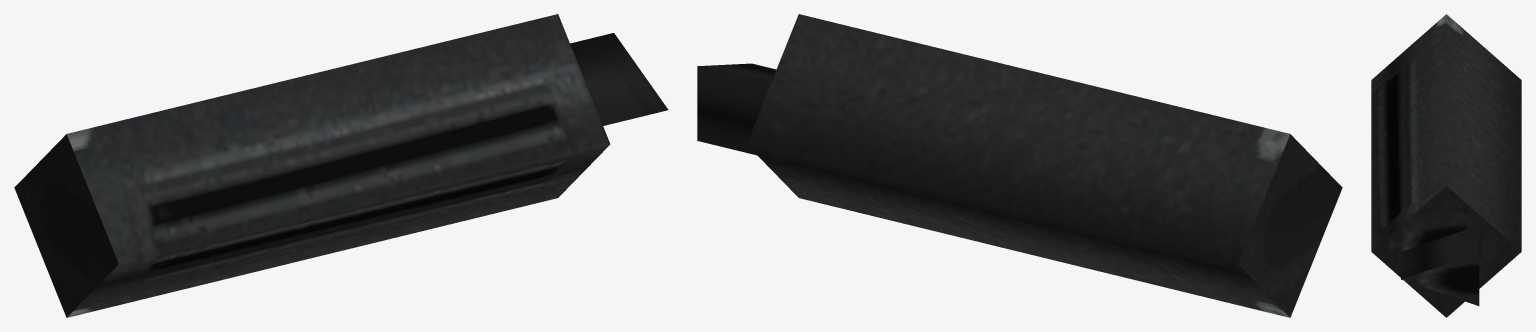
File: t6_attach_sniper_svu_silencer_world_LOD1.obj
3 renders of one model, left to right at view 1: azimuth 30°, elevation 25°; view 2: azimuth 150°, elevation 25°; view 3: azimuth 270°, elevation 25°, orthographic. The views are drawn at different scales.
Parts seen in each view (by area): view 1: mtl_t6_wpn_sniper_svu; view 2: mtl_t6_wpn_sniper_svu; view 3: mtl_t6_wpn_sniper_svu.
Part boxes in pixels (box(x1,y1,x2,y2)): mtl_t6_wpn_sniper_svu: box(14, 14, 668, 317); mtl_t6_wpn_sniper_svu: box(697, 14, 1342, 317); mtl_t6_wpn_sniper_svu: box(1371, 14, 1521, 317).
Bounding box in the file's own units: 16.68 × 5.15 × 5.3.
